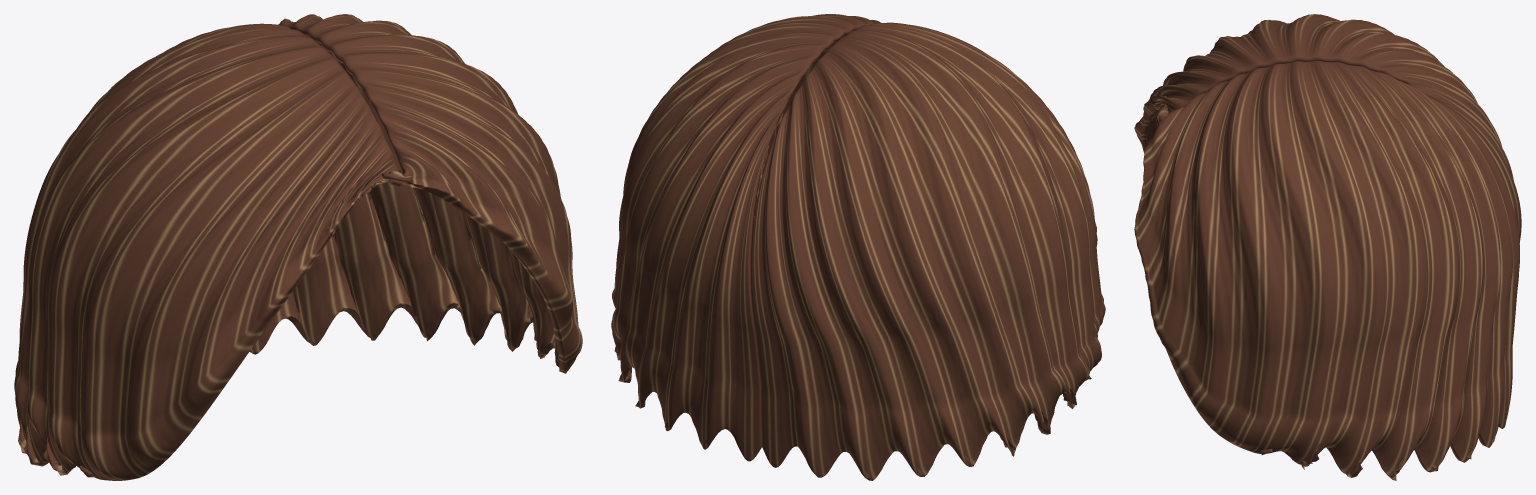
File: Highlights-5acb39feef0d252-hair.glb
3 renders of one model, left to right at view 1: azimuth 30°, elevation 25°; view 2: azimuth 150°, elevation 25°; view 3: azimuth 270°, elevation 25°, orthographic. The views are drawn at different scales.
Visible parts, largest first — view 1: 226 hair / Hair252 / flowing sculpt flow.001; view 2: 226 hair / Hair252 / flowing sculpt flow.001; view 3: 226 hair / Hair252 / flowing sculpt flow.001.
Part boxes in pixels (bbox=[...]): 226 hair / Hair252 / flowing sculpt flow.001: bbox=[14, 14, 582, 480]; 226 hair / Hair252 / flowing sculpt flow.001: bbox=[611, 14, 1105, 480]; 226 hair / Hair252 / flowing sculpt flow.001: bbox=[1134, 14, 1521, 480].
Size of the model in its own units: 1.11 by 0.8603 by 0.8447.
Materials: 1 (1 with a texture image).
